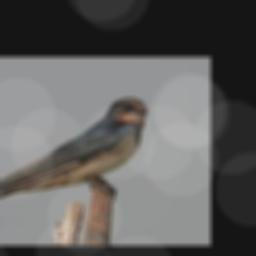Swallow: (0, 99, 148, 201)
